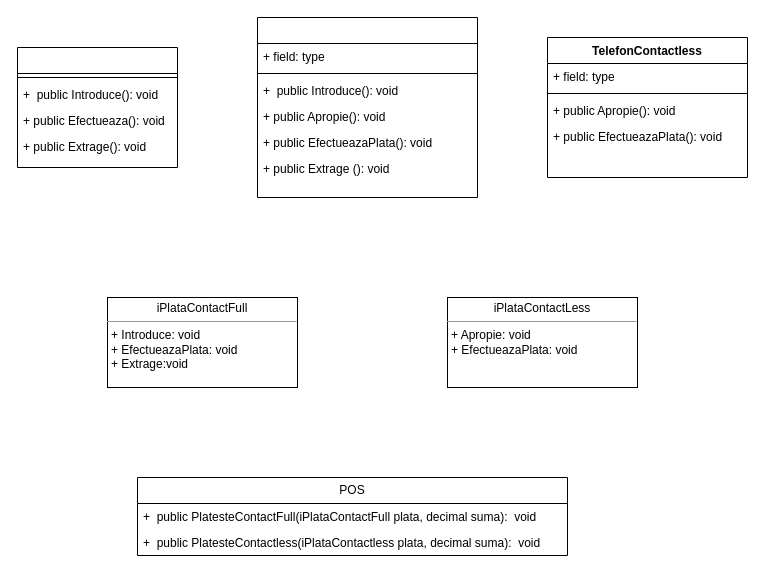
Some shapes in this 765 by 576 pixel diagram are drawn without their labels. The box of each missing label's shape, as (x1, y1, x2, y2) in pixels:
CardClasic: (16, 46, 178, 168)
CardContactless: (256, 16, 478, 198)
